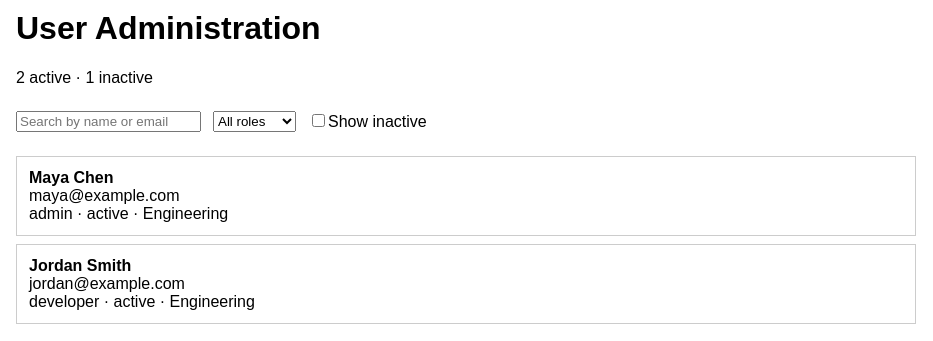
it: UserDashboard behavior › filters by search
This screenshot has width=933, height=341.
Check: the text "Maya Chen" is shown, box [29,169,114,186]
In the field named "Search users": (108, 121) [16,111,201,132], type "Jordan"
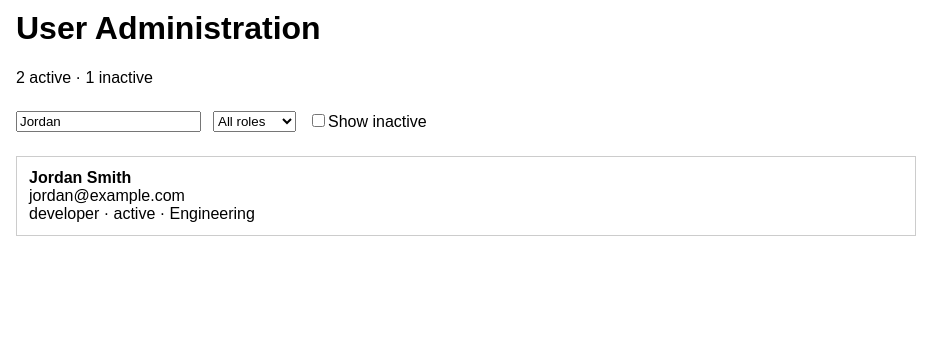
Check: the text "Jordan Smith" is shown, box [29,169,131,186]
Check: the text "Maya Chen" is gone
